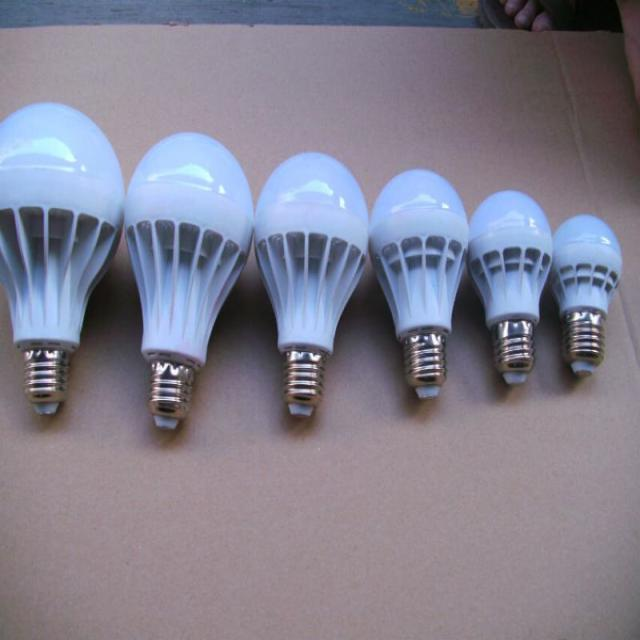non-organik: (0, 51, 629, 441)
